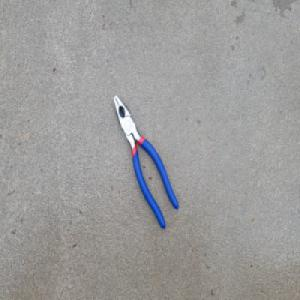Pliers: (112, 91, 179, 231)
